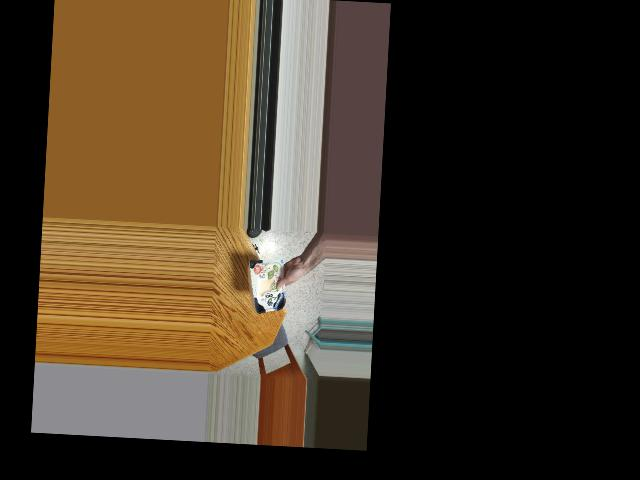cheese: (243, 254, 297, 314)
